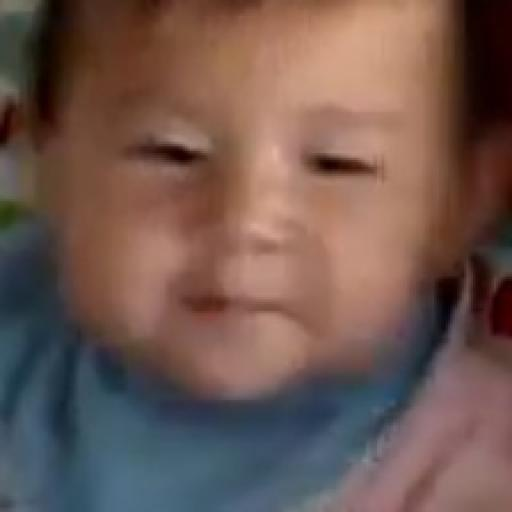Autism: (19, 0, 473, 512)
